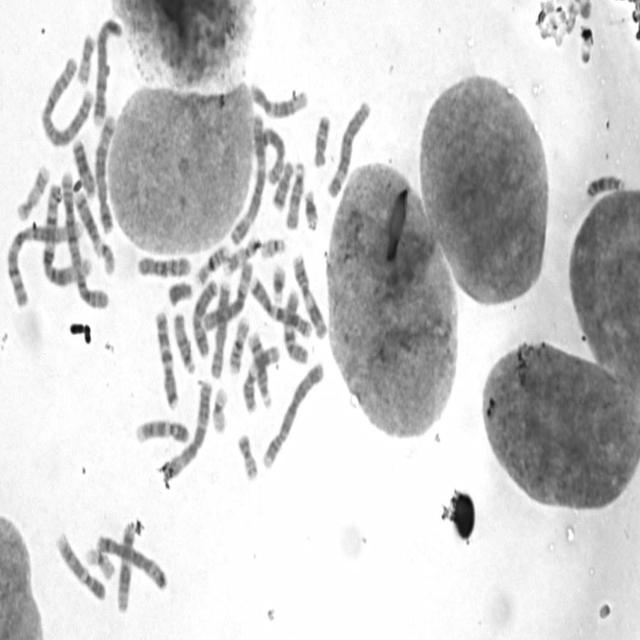A1: (5, 215, 86, 308), (38, 175, 96, 287)
A2: (58, 167, 111, 311), (38, 51, 94, 149)
A3: (160, 375, 213, 481), (228, 110, 268, 247)
B4: (261, 356, 327, 471), (90, 12, 124, 128)
B5: (94, 530, 170, 592), (93, 110, 117, 234)
C10: (281, 285, 309, 366), (135, 250, 193, 280)
C11: (290, 250, 330, 340), (240, 338, 280, 414)
C12: (246, 76, 308, 119), (114, 518, 136, 614)
C6: (325, 95, 373, 201), (200, 254, 254, 332)
C7: (246, 270, 314, 338), (152, 304, 181, 411)
C8: (208, 276, 233, 380), (250, 118, 287, 185)
C9: (53, 528, 108, 602), (133, 413, 191, 447)
D13: (70, 134, 97, 198), (582, 168, 627, 201)
D14: (244, 325, 273, 410), (72, 186, 102, 252)
D15: (171, 307, 197, 375), (282, 157, 306, 230)
E16: (193, 239, 231, 286), (226, 312, 250, 375)
E17: (14, 159, 52, 222), (221, 232, 261, 276)
E18: (269, 156, 295, 211), (310, 108, 332, 169)
F19: (83, 541, 117, 582), (209, 382, 230, 435)
F20: (234, 426, 260, 482), (74, 28, 96, 86)
G21: (301, 183, 320, 232), (268, 259, 287, 304)
G22: (94, 235, 117, 276), (259, 232, 287, 260)
X: (188, 275, 218, 359)
Y: (164, 275, 193, 307)
